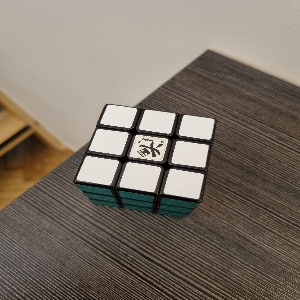cube: (74, 104, 217, 219)
